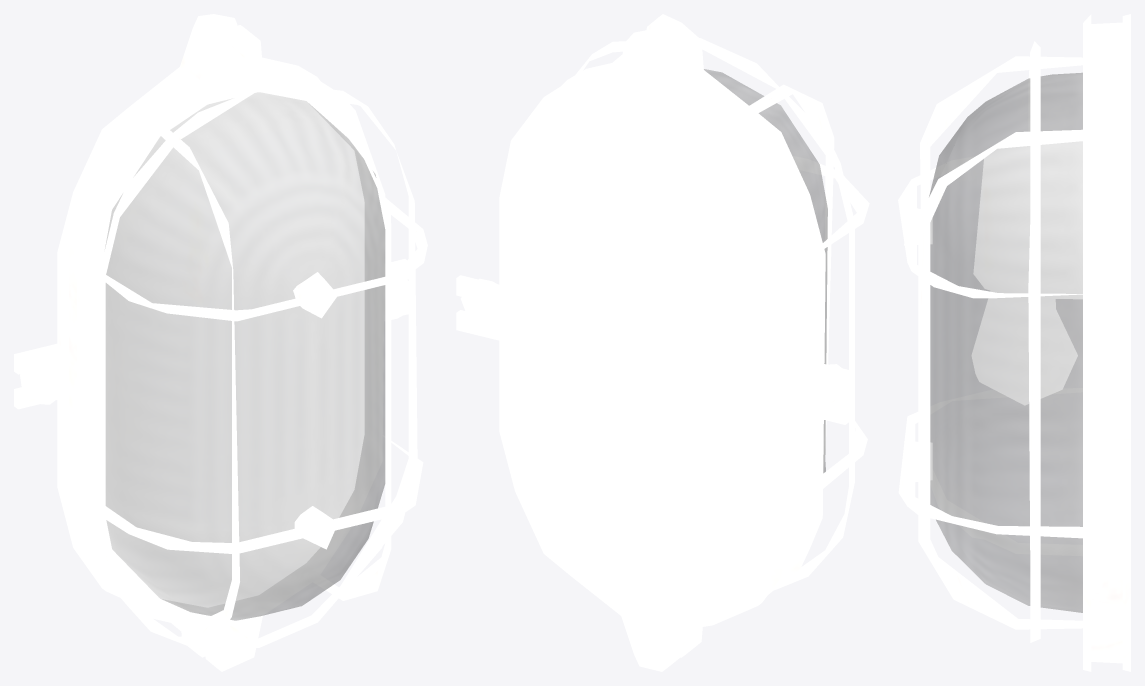
File: industrial_wall_lamp.glb
The picture shows the model from 3 angles, left to right: view 1: azimuth 30°, elevation 25°; view 2: azimuth 150°, elevation 25°; view 3: azimuth 270°, elevation 25°; orthographic projection.
Visible parts, largest first — view 1: industrial_wall_lamp; view 2: industrial_wall_lamp; view 3: industrial_wall_lamp.
Boxes of the visible parts, x1=… form: industrial_wall_lamp: x1=14, y1=14, x2=427, y2=671; industrial_wall_lamp: x1=456, y1=14, x2=869, y2=671; industrial_wall_lamp: x1=898, y1=14, x2=1130, y2=671.
Bounding box in the file's own units: 0.2735 × 0.4283 × 0.1393.
Materials: 2 (2 with a texture image).
